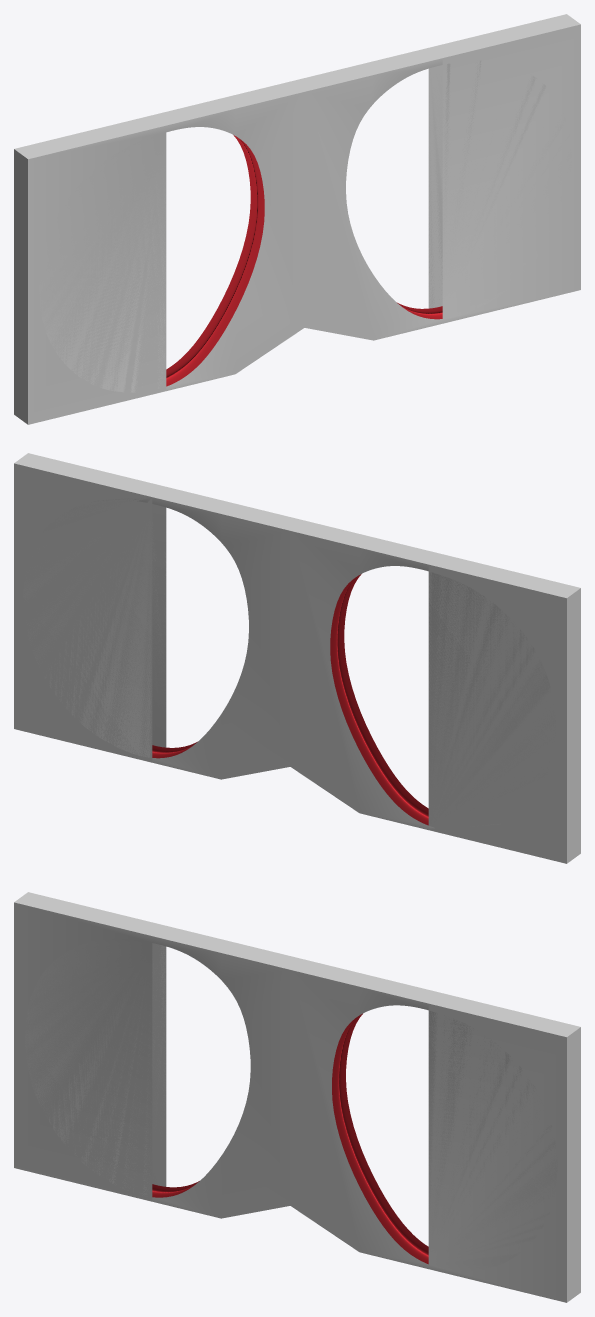
Rendered from Linsenhalter.fbx.
3 views of the same model, one above another, from view 1: azimuth 30°, elevation 25°; view 2: azimuth 150°, elevation 25°; view 3: azimuth 330°, elevation 25° (orthographic).
Visible parts, largest first — view 1: Linsenhalter; view 2: Linsenhalter; view 3: Linsenhalter.
Part boxes in pixels (bbox=[...]): Linsenhalter: bbox=[14, 14, 580, 424]; Linsenhalter: bbox=[14, 453, 580, 863]; Linsenhalter: bbox=[14, 892, 580, 1302].
Size of the model in its own units: 95.75 by 43.96 by 4.24.
